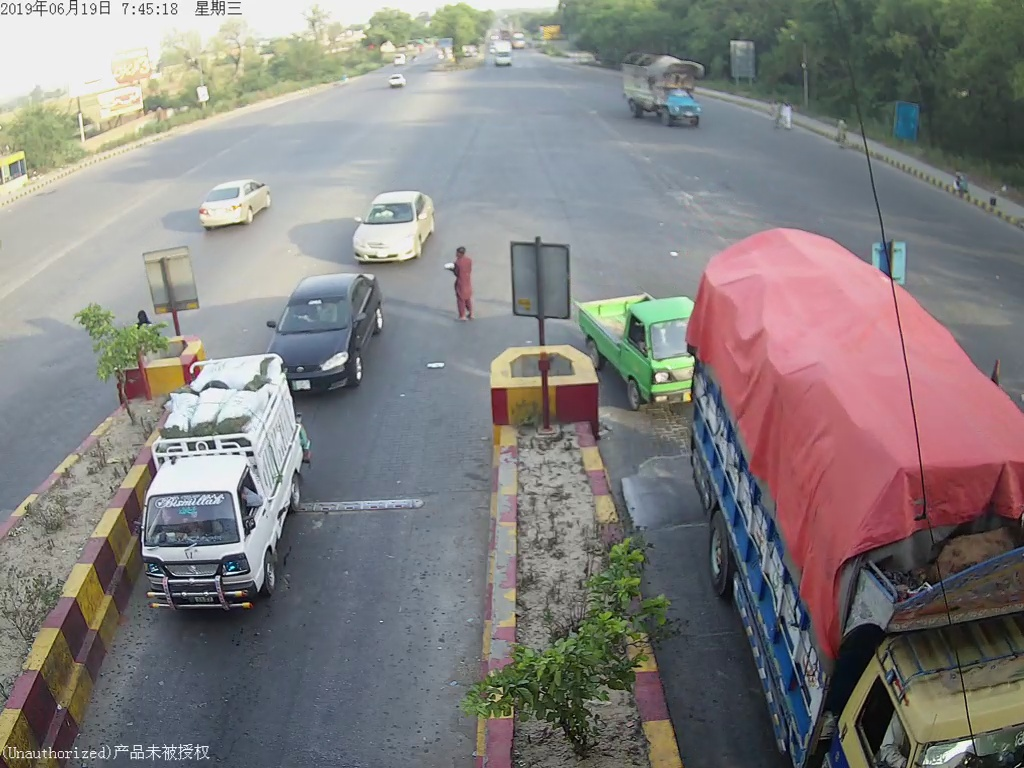Cat-1: (138, 358, 307, 617), (587, 292, 689, 415), (260, 271, 389, 356), (356, 192, 434, 273)
Cat-4: (709, 259, 1024, 756)
